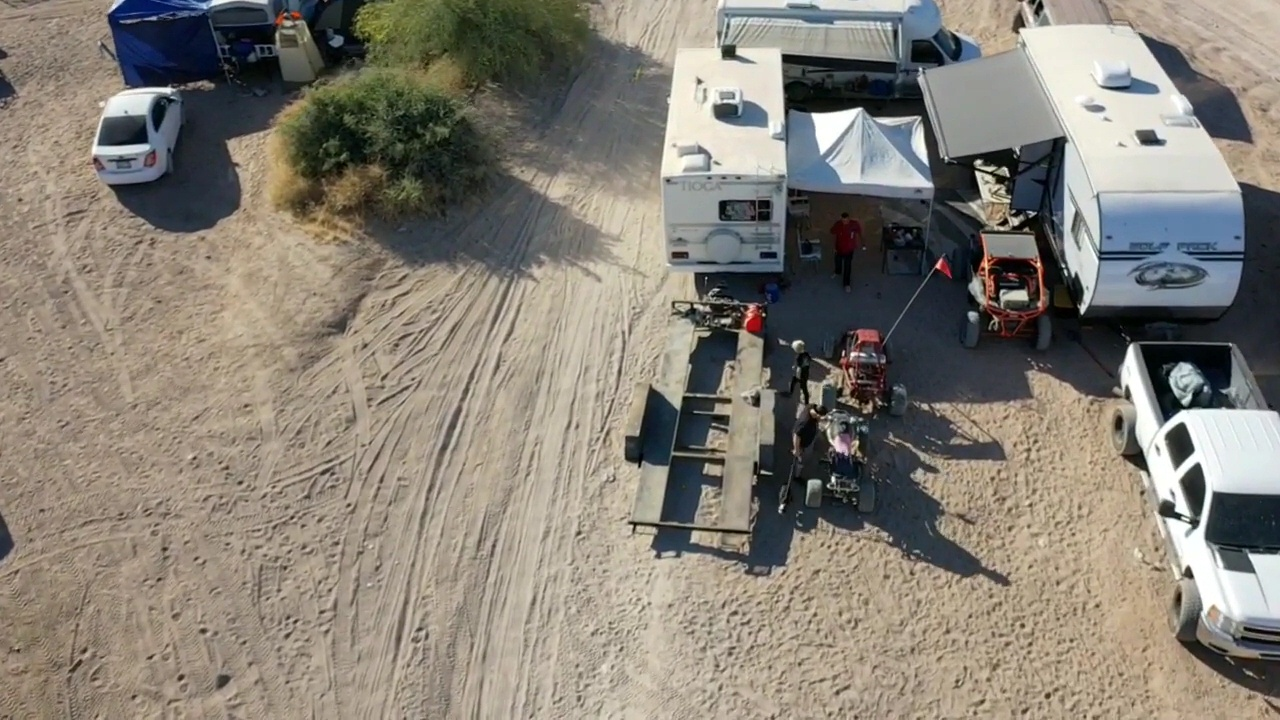araba: (83, 79, 191, 190)
insan: (824, 211, 867, 293), (785, 338, 811, 409)
kamyonet: (1109, 330, 1280, 669)
